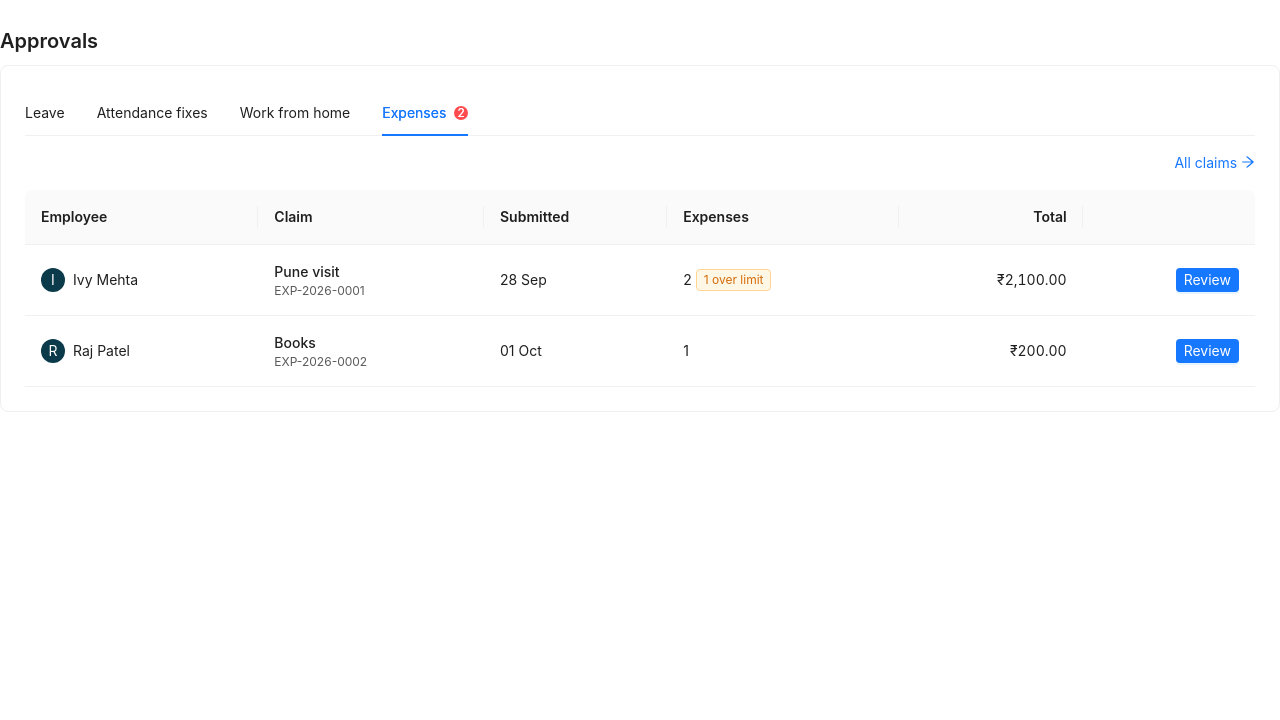
Test: Approvals → Expenses › lists waiting claims oldest first, shows the receipts, and approves one
This screenshot has width=1280, height=720.
Expected: the text "Pune visit" is shown, [274, 263, 340, 280]
Expected: the tab "Expenses 2" is shown, [382, 102, 468, 124]
Click the button "Review" in the row of "Ivy Mehta". click: (1207, 280)
box: [1176, 268, 1239, 292]
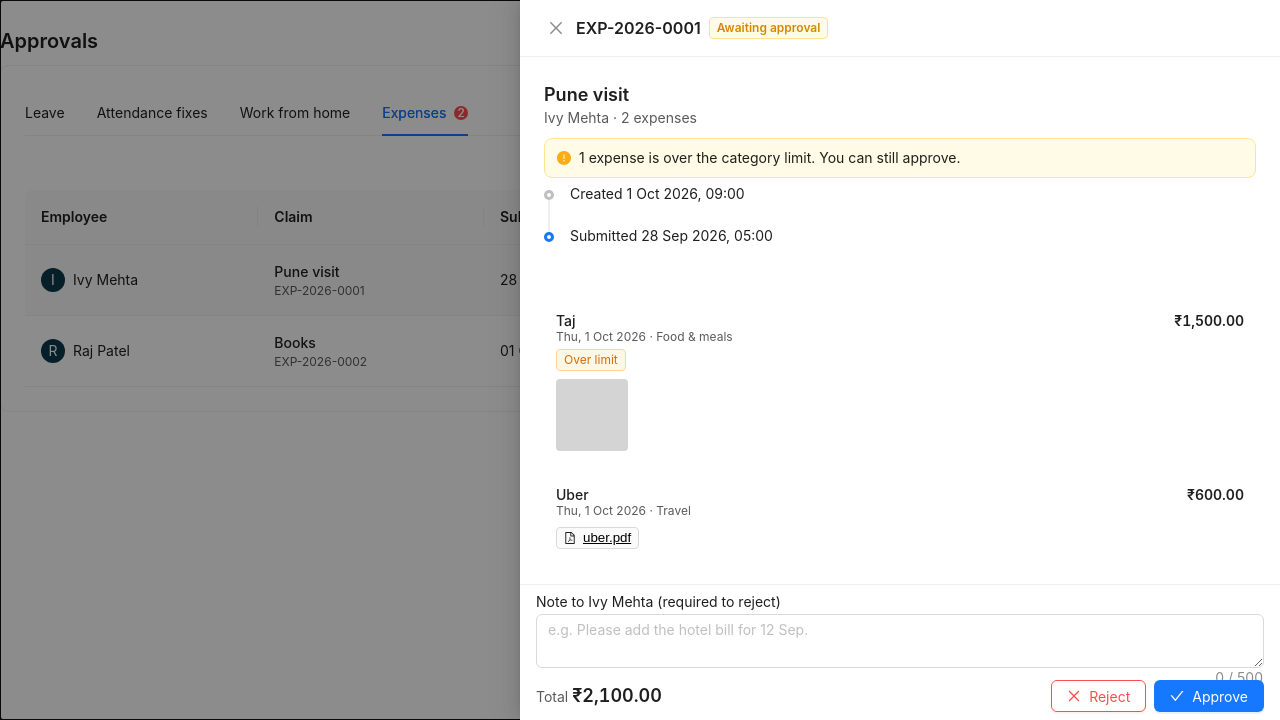
Expected: the element that starts with "EXP-2026-0001" is shown
Expected: the text "EXP-2026-0001" is shown, [576, 16, 701, 40]
Expected: the text "1 expense is over the category limit. You can still approve." is shown, [579, 149, 960, 166]
Click the text box labelled "Note to Ivy Mehta (required to reject)". click: (900, 641)
box: [537, 615, 1263, 667]
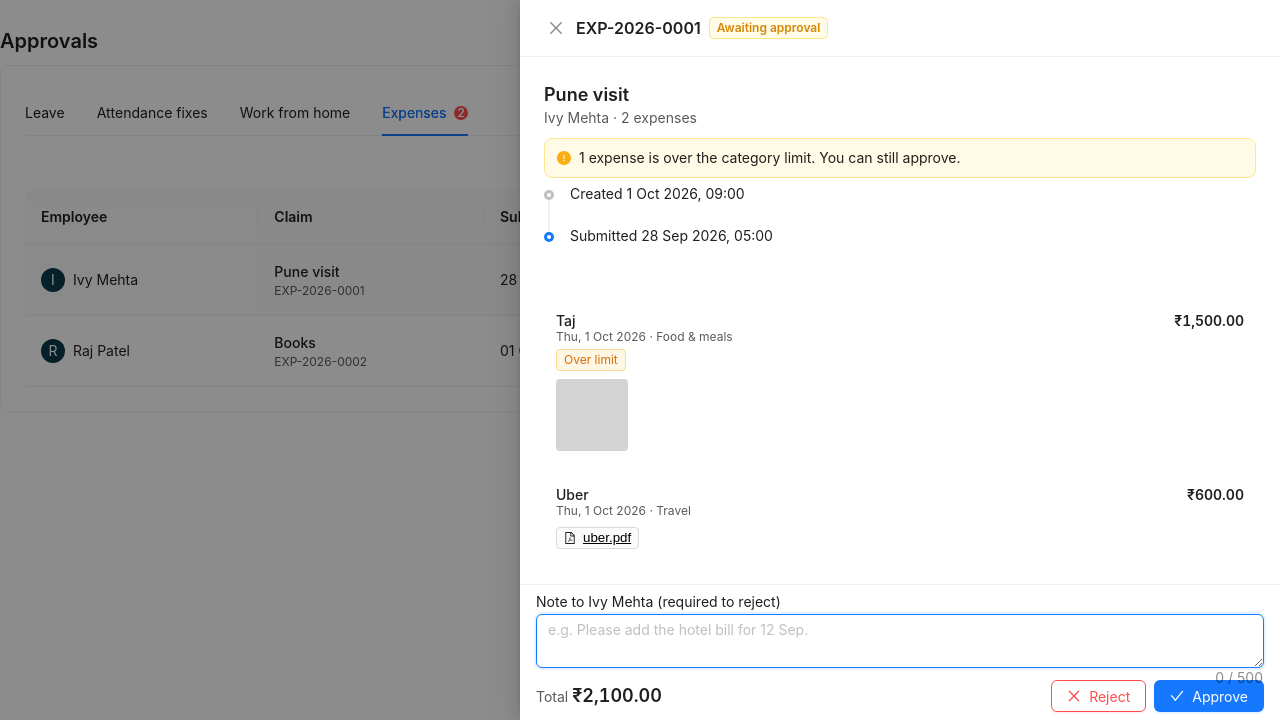
Type keys "Thanks for the receipts"
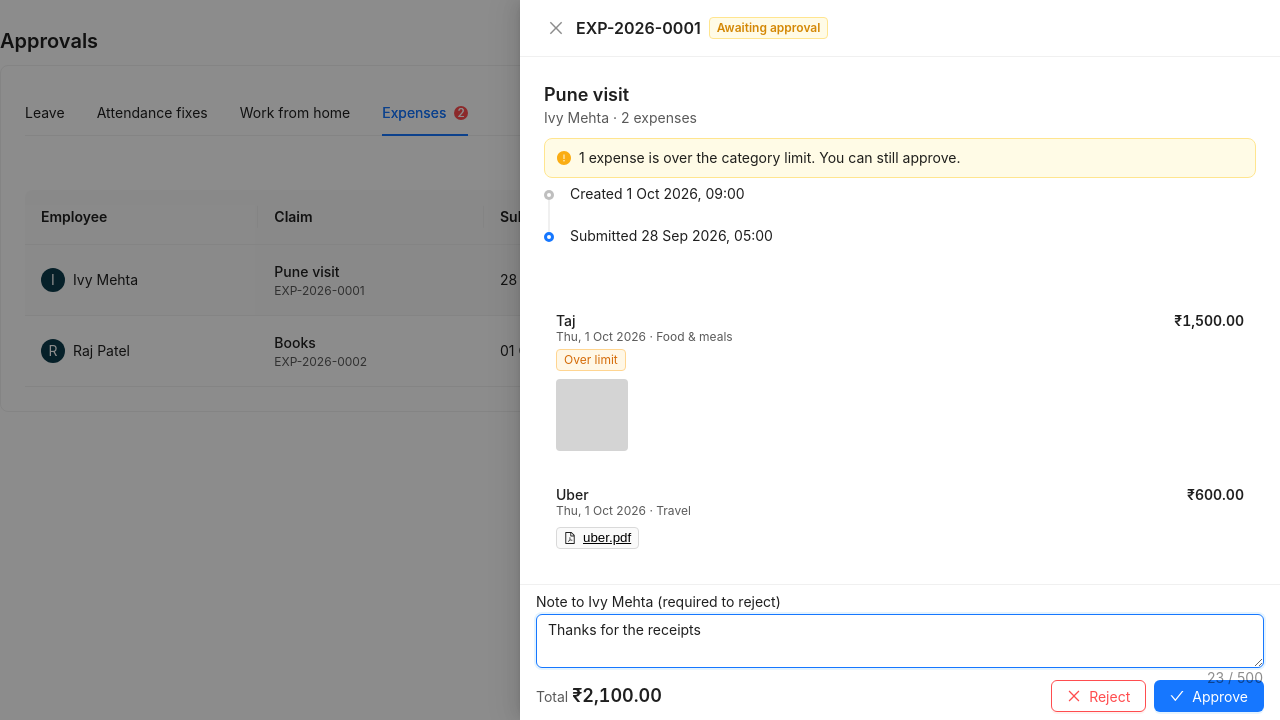
Click the button "Approve". click: (1209, 696)
box: [1154, 680, 1264, 712]
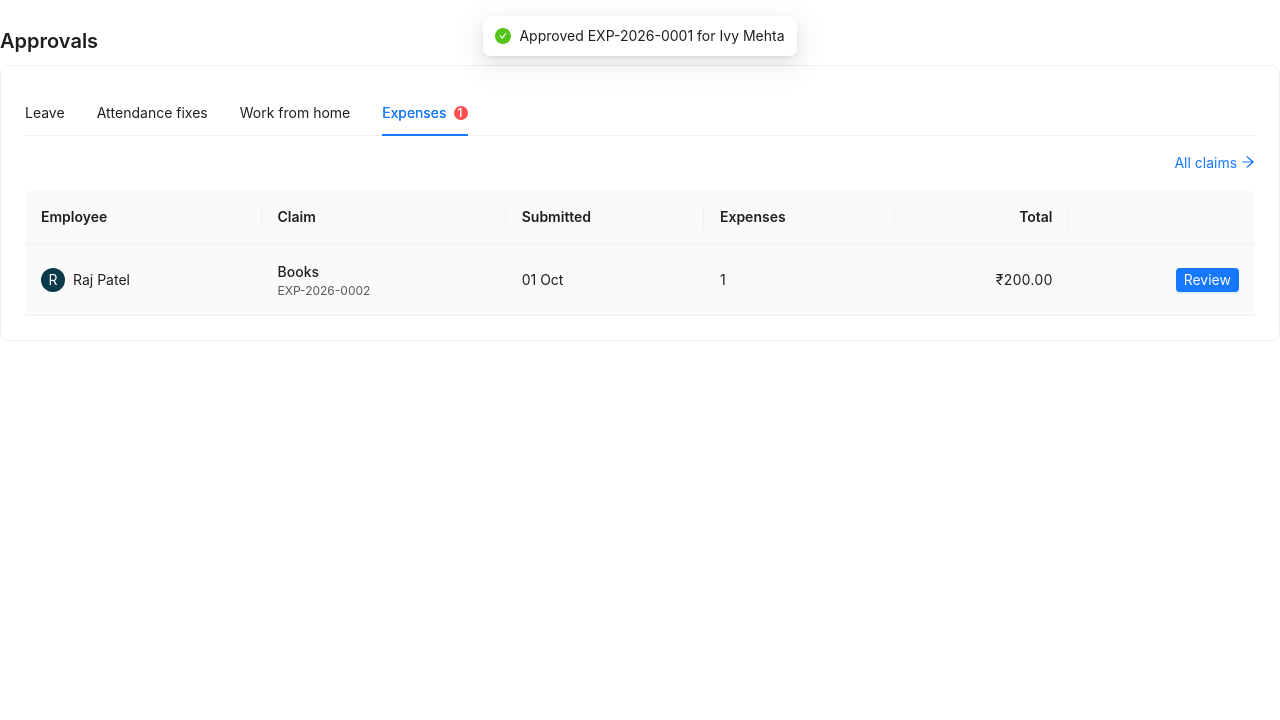
Expected: the text "Approved EXP-2026-0001 for Ivy Mehta" is shown, [519, 25, 784, 47]
Expected: the tab "Expenses 1 2" is shown, [382, 102, 468, 124]
